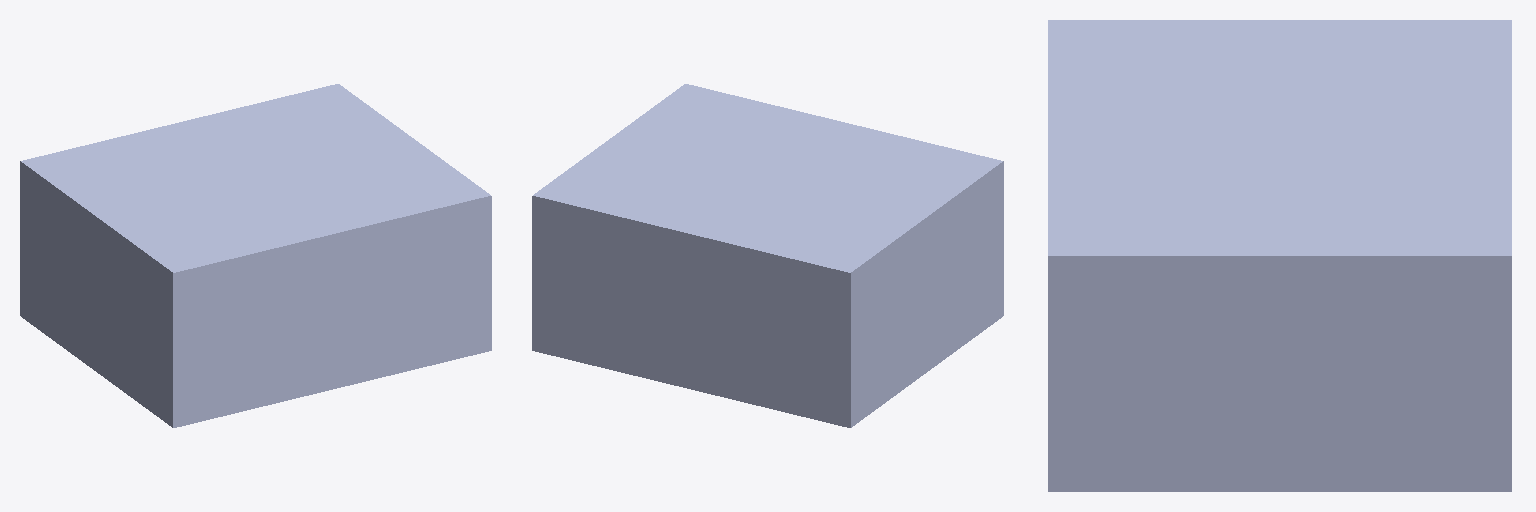
robot.urdf — building_02:
<?xml version="1.0" encoding="utf-8"?>
<!-- This URDF was automatically created by SolidWorks to URDF Exporter! Originally created by [author] ([email redacted]) 
     Commit Version: 1.6.0-1-g15f4949  Build Version: 1.6.7594.29634
     For more information, please see http://wiki.ros.org/sw_urdf_exporter -->
<robot
  name="building_02">
  <link
    name="base_link">
    <inertial>
      <origin
        xyz="1.8 1.5 0.84"
        rpy="0 0 0" />
      <mass
        value="18144" />
      <inertia
        ixx="17875.4688"
        ixy="-1.38108191549691E-12"
        ixz="-1.5896262084425E-13"
        iyy="23862.9888"
        iyz="-8.3579720921989E-13"
        izz="33203.52" />
    </inertial>
    <visual>
      <origin
        xyz="0 0 0"
        rpy="0 0 0" />
      <geometry>
        <mesh
          filename="package://building_02/meshes/base_link.STL" />
      </geometry>
      <material
        name="">
        <color
          rgba="0.792156862745098 0.819607843137255 0.933333333333333 1" />
      </material>
    </visual>
    <collision>
      <origin
        xyz="0 0 0"
        rpy="0 0 0" />
      <geometry>
        <mesh
          filename="package://building_02/meshes/base_link.STL" />
      </geometry>
    </collision>
  </link>
</robot>

--- Render facts (derived) ---
The picture shows the robot from 3 angles, left to right: view 1: azimuth 30°, elevation 25°; view 2: azimuth 150°, elevation 25°; view 3: azimuth 270°, elevation 25°; orthographic projection.
Robot: building_02 — 1 links, 0 joints (none); root link base_link; default pose: every joint at zero.
Links seen in each view (by area): view 1: base_link; view 2: base_link; view 3: base_link.
Boxes of the visible links, x1,y1,x2,y2 form: base_link: (20,84,491,427); base_link: (532,84,1003,427); base_link: (1048,20,1511,491).
Bounding box of the posed robot: 3.6 × 3 × 1.68 m (x, y, z).
Meshes: 1 distinct files referenced, 1 mesh visuals loaded (1 binary STL).